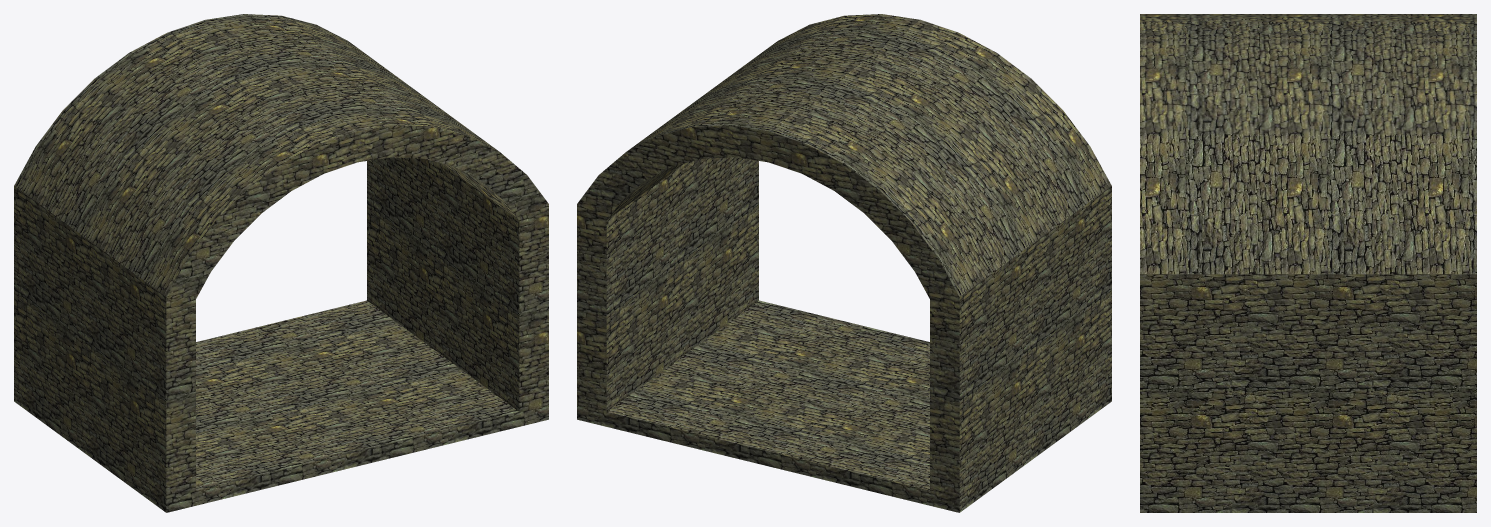
File: cpt_tunnel.dae
3 views of the same model, side by side, from view 1: azimuth 30°, elevation 25°; view 2: azimuth 150°, elevation 25°; view 3: azimuth 270°, elevation 25° (orthographic). The views are drawn at different scales.
Parts seen in each view (by area): view 1: group_0 (×2); view 2: group_0 (×2); view 3: group_0.
Part boxes in pixels (box(x1,y1,x2,y2)): group_0 (×2): box(14, 14, 548, 512); group_0 (×2): box(577, 14, 1111, 512); group_0: box(1140, 14, 1476, 512).
Bounding box in the file's own units: 1159 × 799 × 970.
2 materials, 1 textured.
